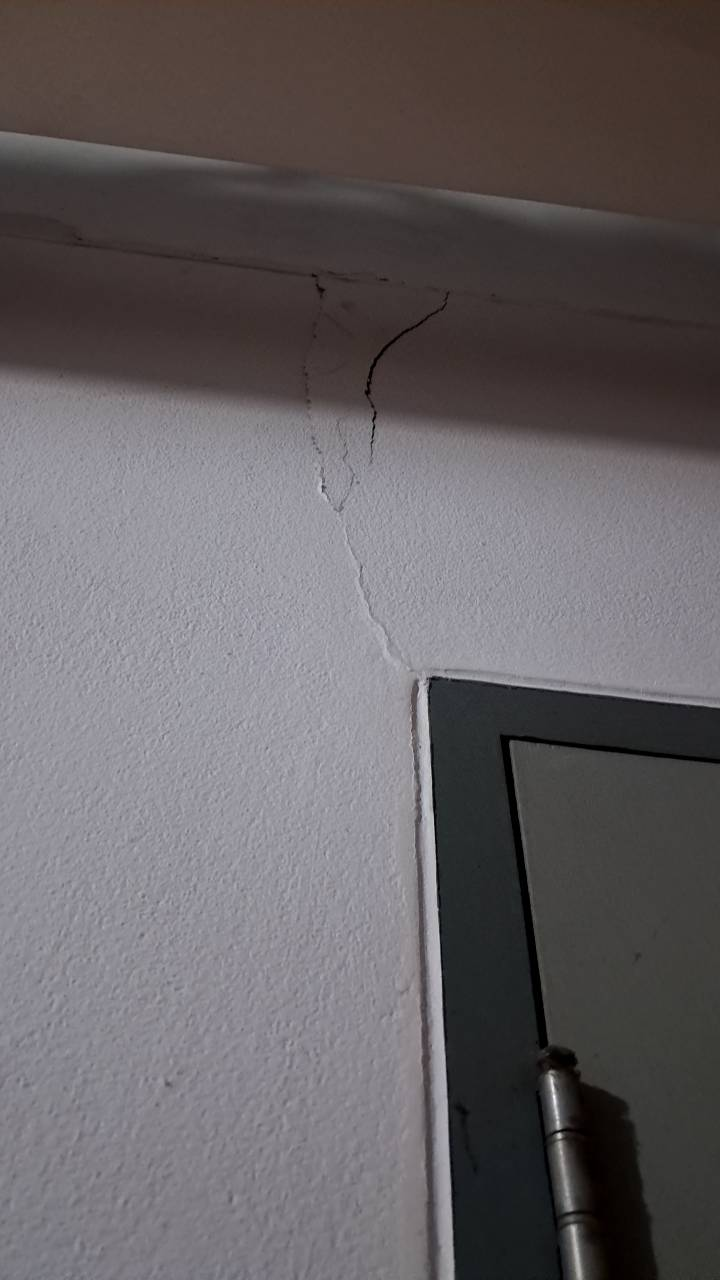Low: (284, 266, 495, 662)
